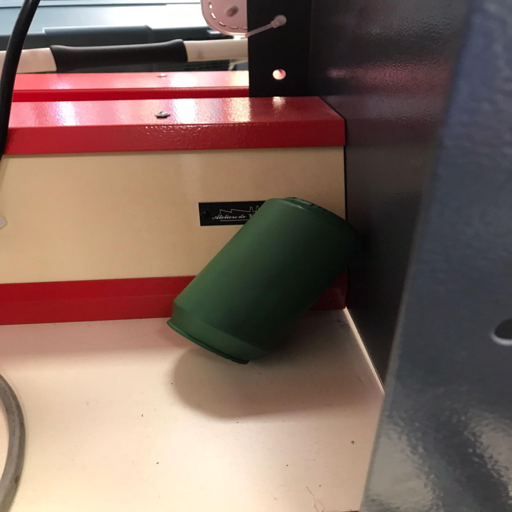Green_Can: (162, 193, 367, 364)
